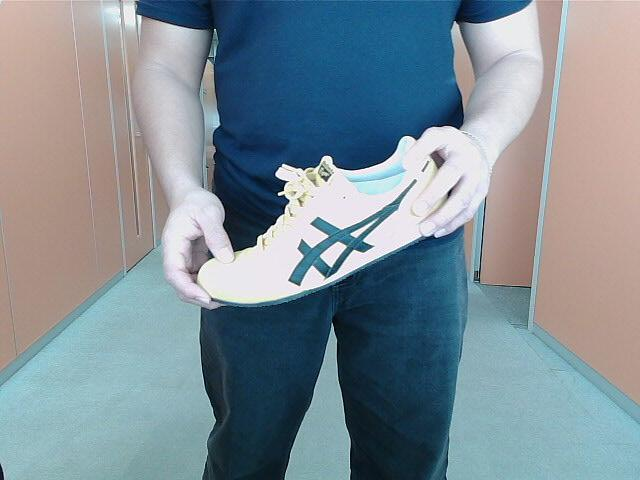Shoes: (191, 138, 468, 305)
